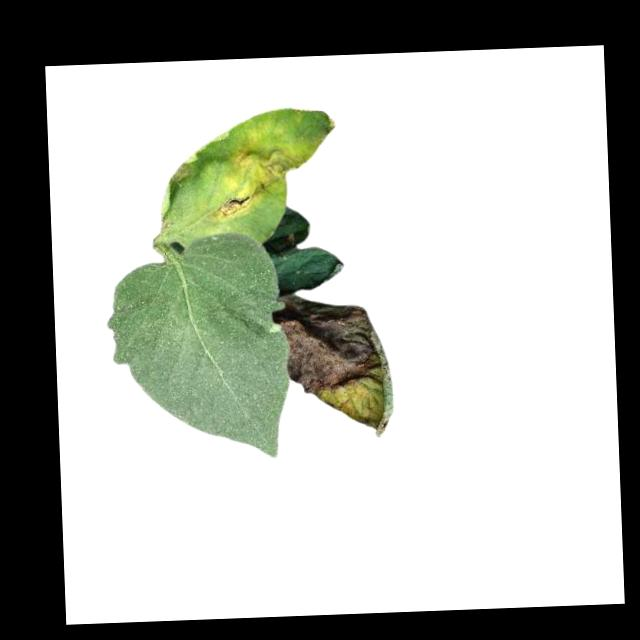Late_blight: (271, 289, 395, 442), (208, 137, 310, 223), (167, 152, 201, 185)
